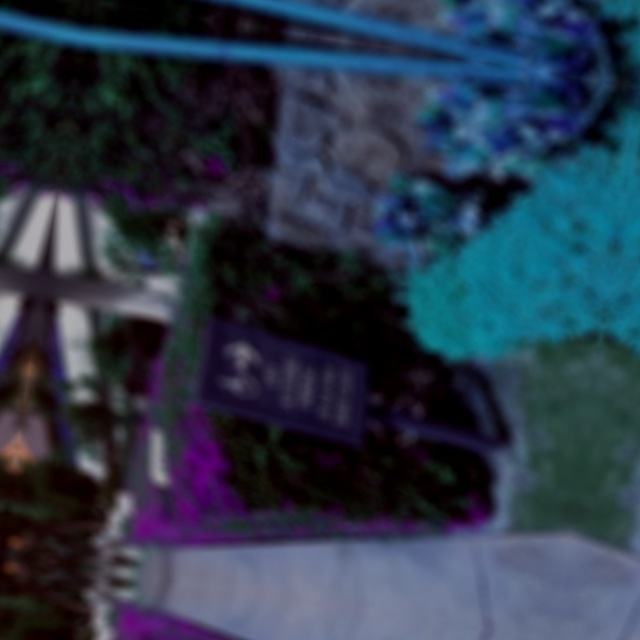ISA: (213, 368, 261, 398)
